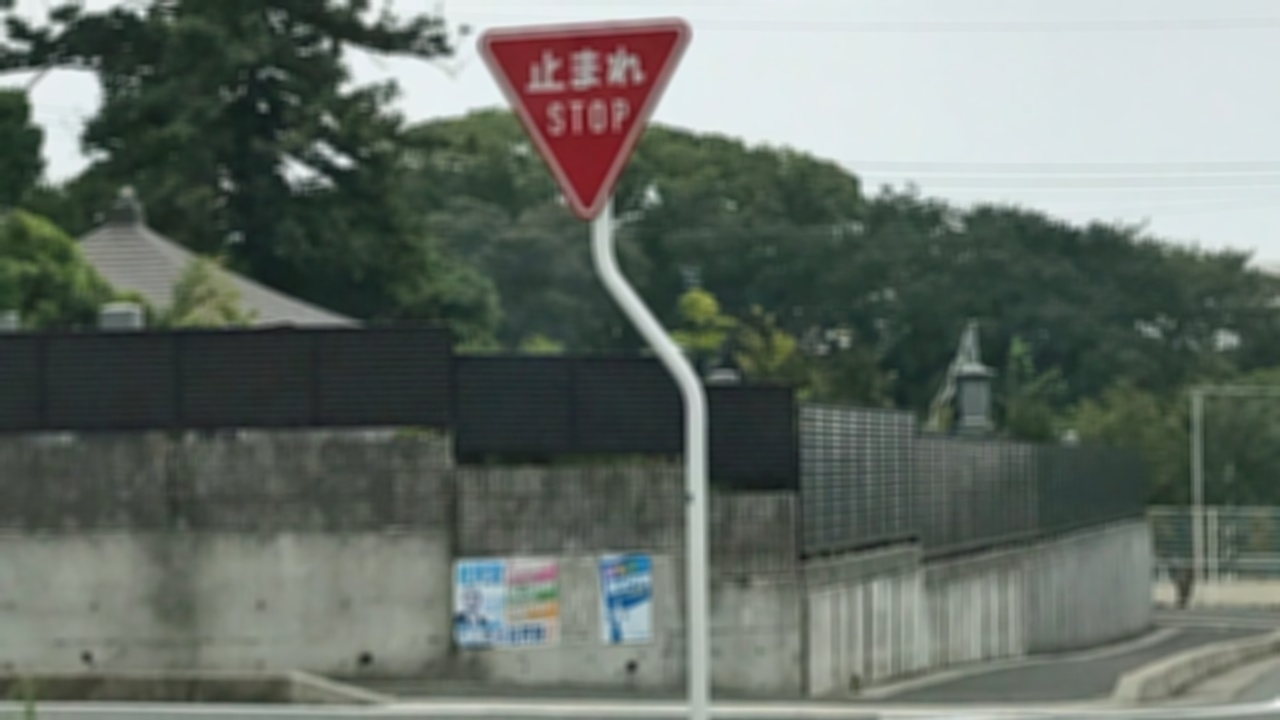Regulatory_sign_triangle: (473, 12, 703, 229)
